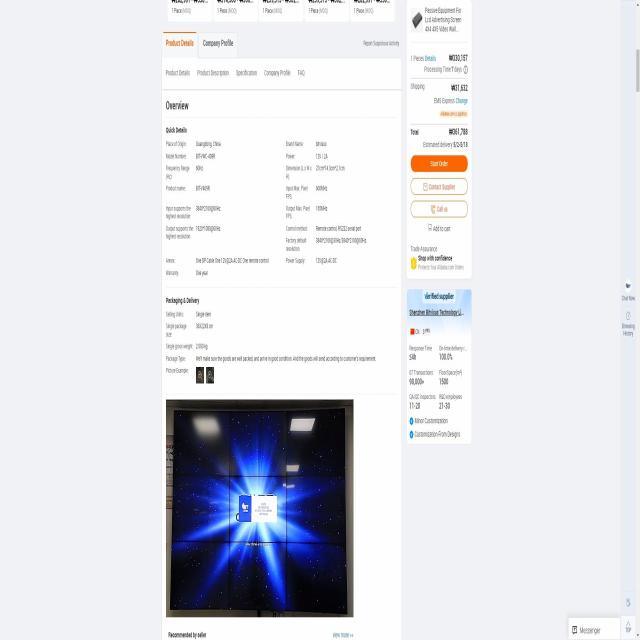button: (411, 200, 468, 219), (198, 31, 238, 58), (411, 155, 468, 173), (411, 178, 468, 196), (162, 30, 197, 59), (426, 222, 451, 234)
